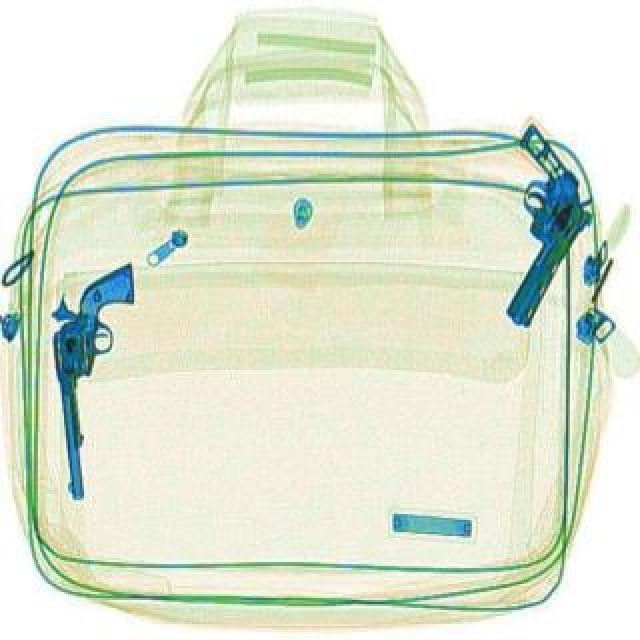gun: (446, 124, 618, 330), (42, 258, 156, 498)
